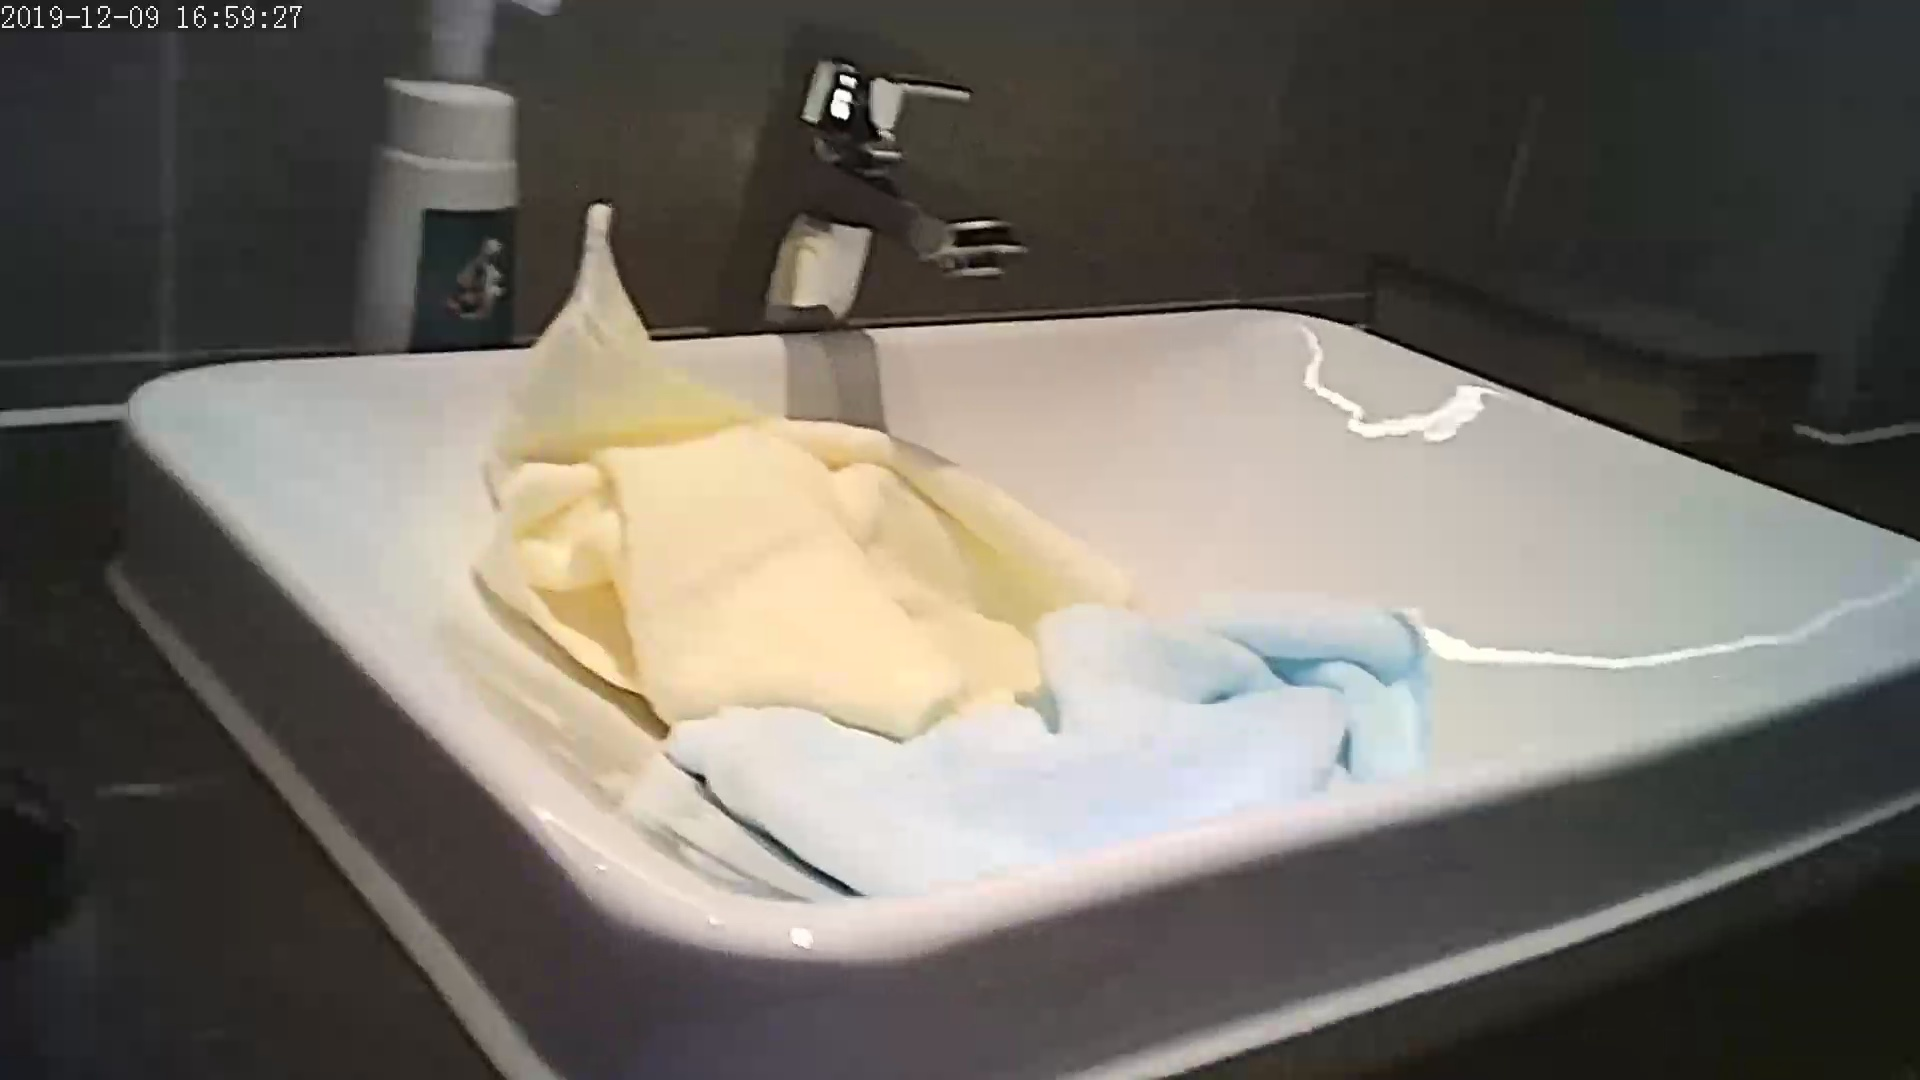bluecloth: (833, 634, 1398, 898)
sink: (109, 42, 1909, 1059)
yellowcloth: (498, 332, 986, 715)
